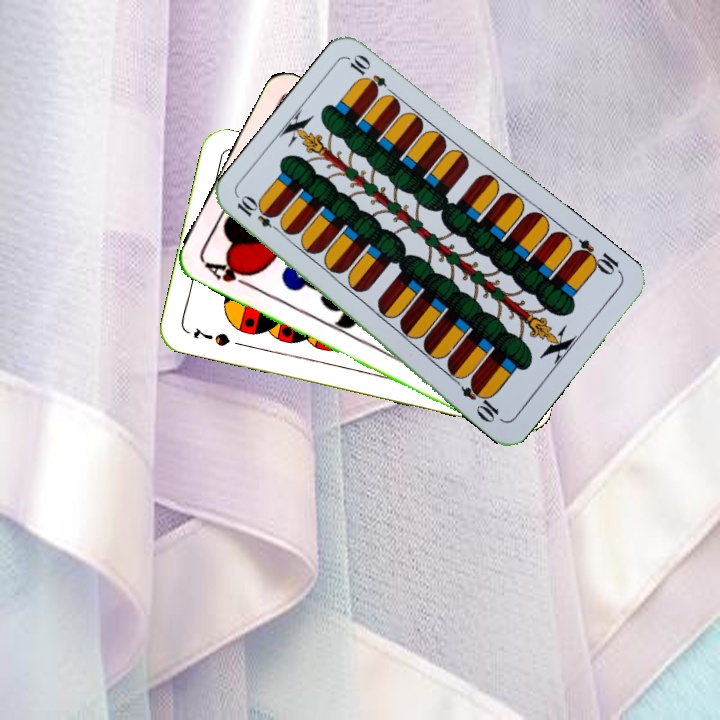E10: (570, 235, 625, 278), (233, 193, 286, 237)
HA: (200, 256, 258, 291)
S7: (189, 323, 233, 349)
